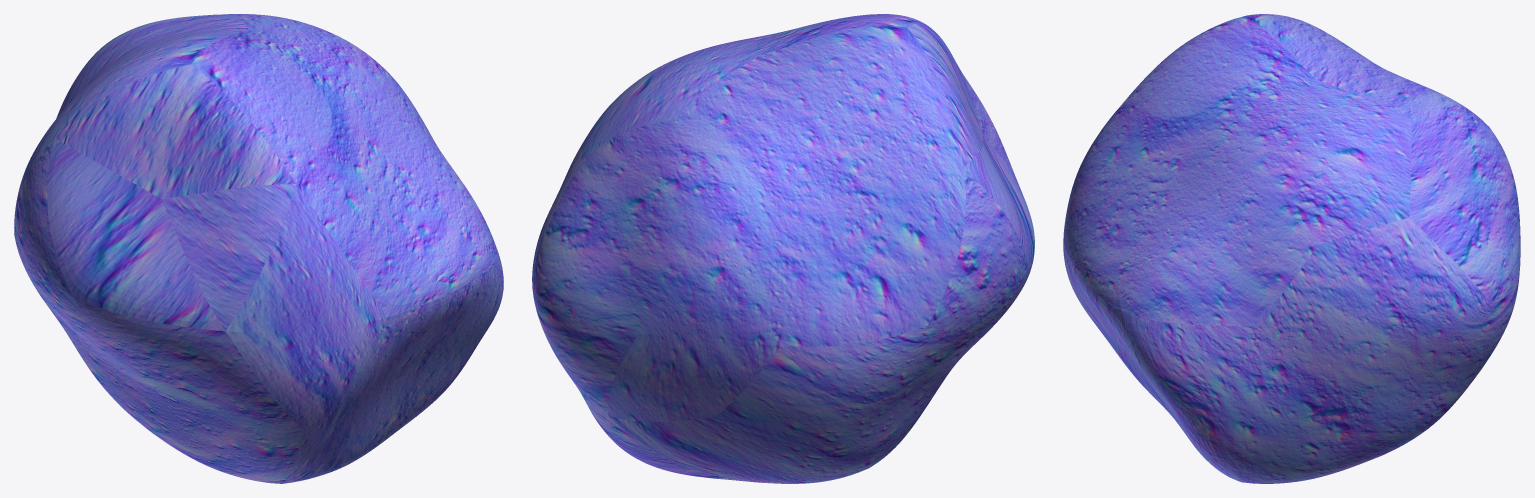
Rendered from smallasteroid8_LOD0.fbx.
3 renders of one model, left to right at view 1: azimuth 30°, elevation 25°; view 2: azimuth 150°, elevation 25°; view 3: azimuth 270°, elevation 25°, orthographic. The views are drawn at different scales.
Parts seen in each view (by area): view 1: Icosphere; view 2: Icosphere; view 3: Icosphere.
Part boxes in pixels (box(x1,y1,x2,y2)): Icosphere: box(14, 14, 503, 483); Icosphere: box(532, 14, 1034, 483); Icosphere: box(1063, 14, 1520, 483).
Bounding box in the file's own units: 222 × 228 × 241.
